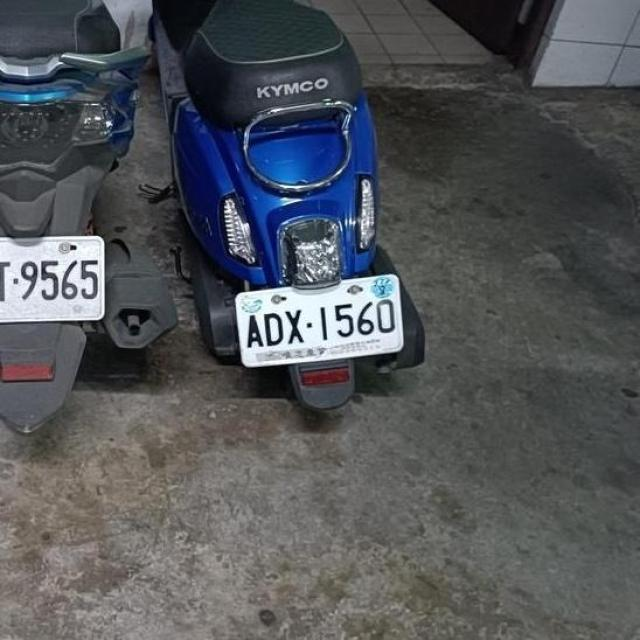W: (235, 274, 408, 368), (0, 233, 106, 323)
